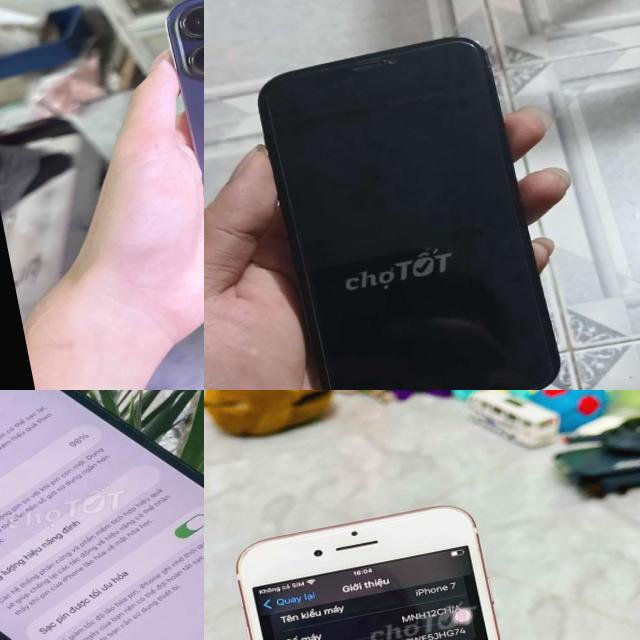gen_12_13: (252, 25, 573, 390)
gen_14: (0, 390, 204, 640), (147, 0, 204, 333)
gen_7_8: (220, 493, 562, 640)
